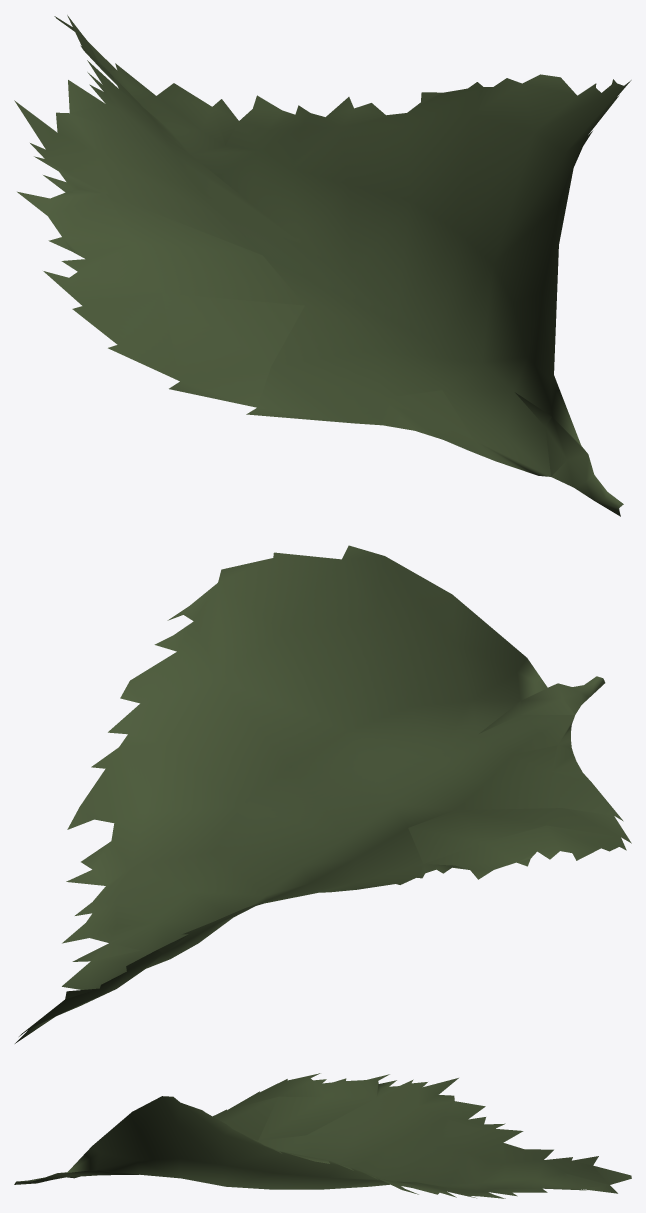
File: trees-leaves-elm-leaf_v2.glb
3 views of the same model, one above another, from view 1: azimuth 30°, elevation 25°; view 2: azimuth 150°, elevation 25°; view 3: azimuth 270°, elevation 25° (orthographic). The views are drawn at different scales.
Parts seen in each view (by area): view 1: Elm Leaf_v2; view 2: Elm Leaf_v2; view 3: Elm Leaf_v2.
Part boxes in pixels (left/top/right/bottom): Elm Leaf_v2: left=14, top=15, right=631, bottom=516; Elm Leaf_v2: left=15, top=545, right=631, bottom=1043; Elm Leaf_v2: left=14, top=1073, right=631, bottom=1198.
Bounding box in the file's own units: 0.049 × 0.0215 × 0.1.
